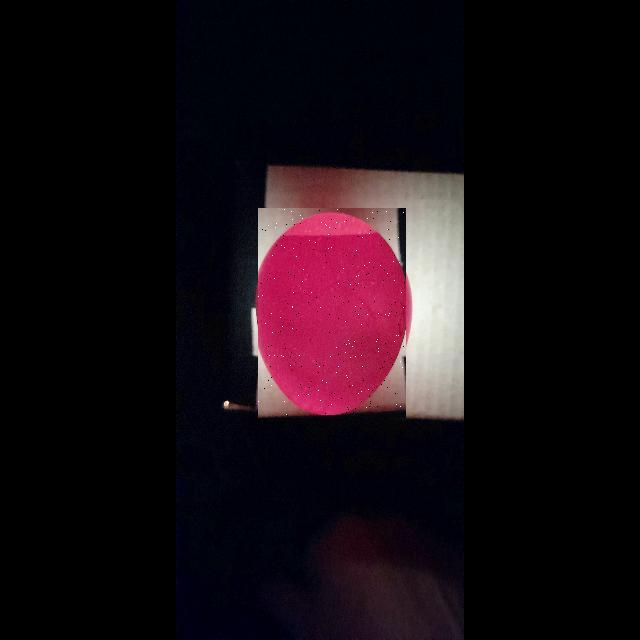Fertile: (258, 208, 406, 418)
